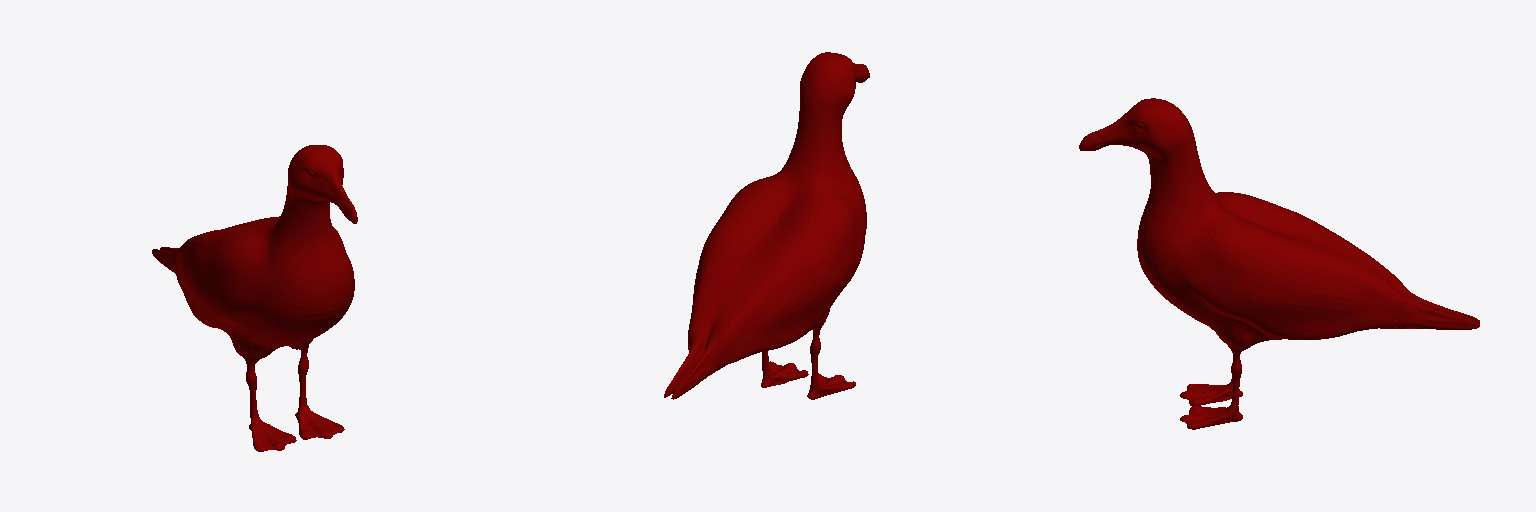
3 renders of one model, left to right at view 1: azimuth 30°, elevation 25°; view 2: azimuth 150°, elevation 25°; view 3: azimuth 270°, elevation 25°, orthographic.
Visible parts, largest first — view 1: 014_Vray; view 2: 014_Vray; view 3: 014_Vray.
Part boxes in pixels (x1,y1,x2,y2): 014_Vray: (152, 145, 357, 451); 014_Vray: (664, 52, 869, 399); 014_Vray: (1079, 98, 1479, 429).
Size of the model in its own units: 99.56 by 233 by 275.